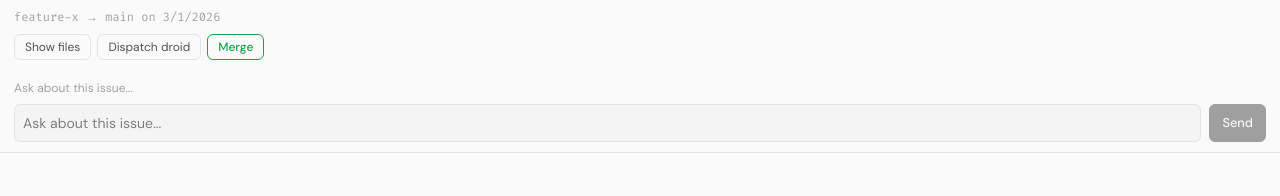
Test: PrCard › handles merge network error
Step 1. Click the button "Merge" → (236, 47), box [207,34,264,60]
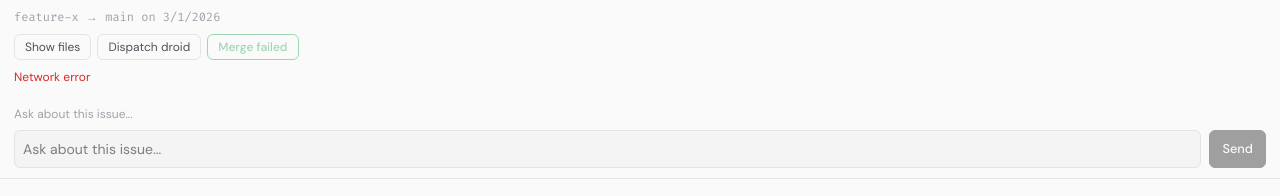
expect the text "Network error" is shown: met, box [14,69,90,85]
